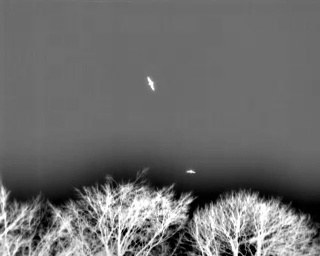BIRD: (184, 167, 198, 178)
